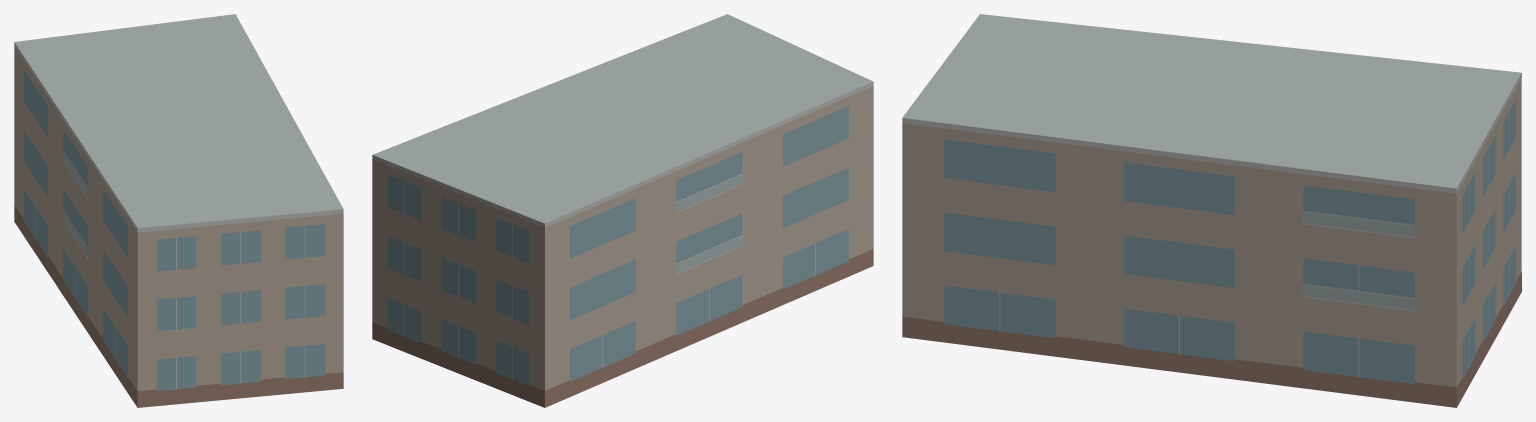
The model's file is survey-upis-32470270.glb.
The picture shows the model from 3 angles, left to right: view 1: azimuth 30°, elevation 25°; view 2: azimuth 150°, elevation 25°; view 3: azimuth 270°, elevation 25°; orthographic projection. The views are drawn at different scales.
Parts seen in each view (by area): view 1: survey-upis-32470270.tmp; view 2: survey-upis-32470270.tmp; view 3: survey-upis-32470270.tmp.
Part boxes in pixels (<box>): survey-upis-32470270.tmp: <box>14,14,343,407</box>; survey-upis-32470270.tmp: <box>372,14,873,407</box>; survey-upis-32470270.tmp: <box>902,14,1521,407</box>.
Size of the model in its own units: 17.43 by 10.2 by 26.13.
